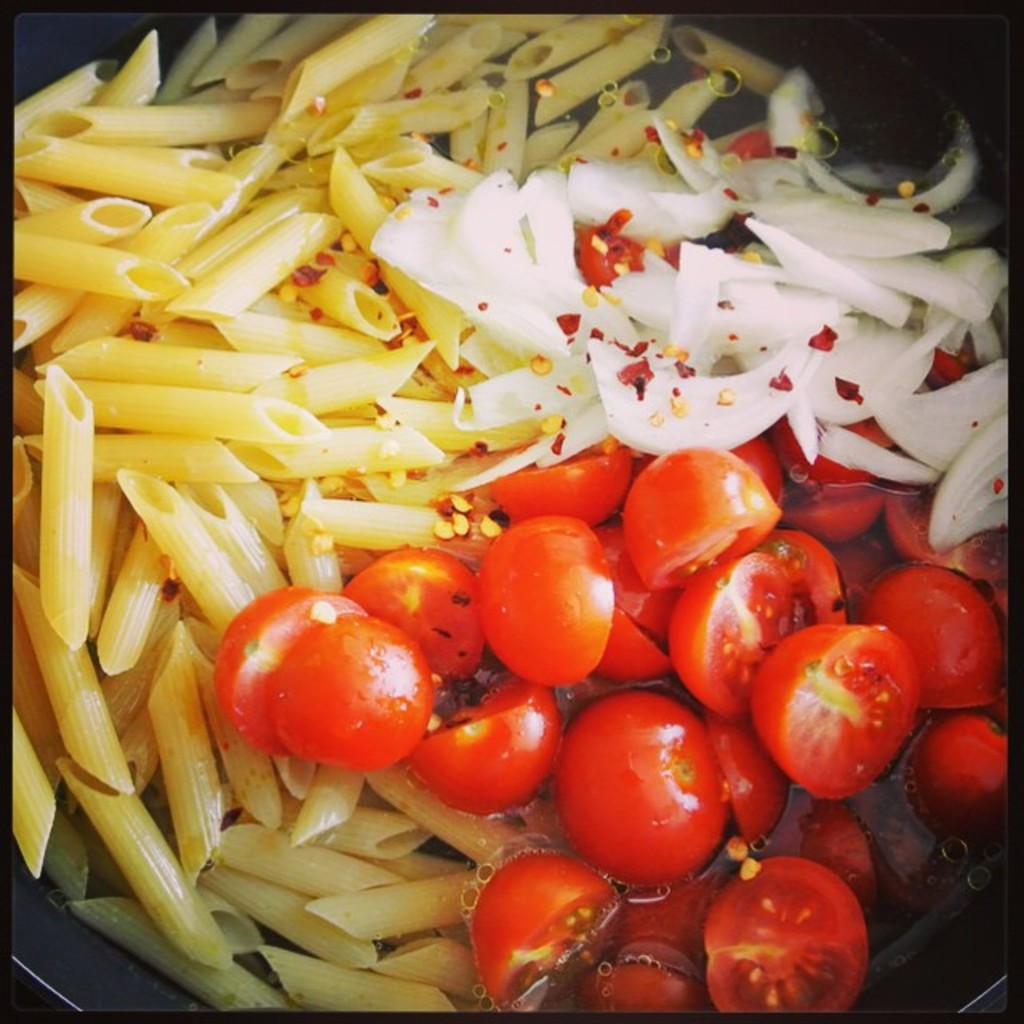pasta: (6, 14, 1000, 1019)
